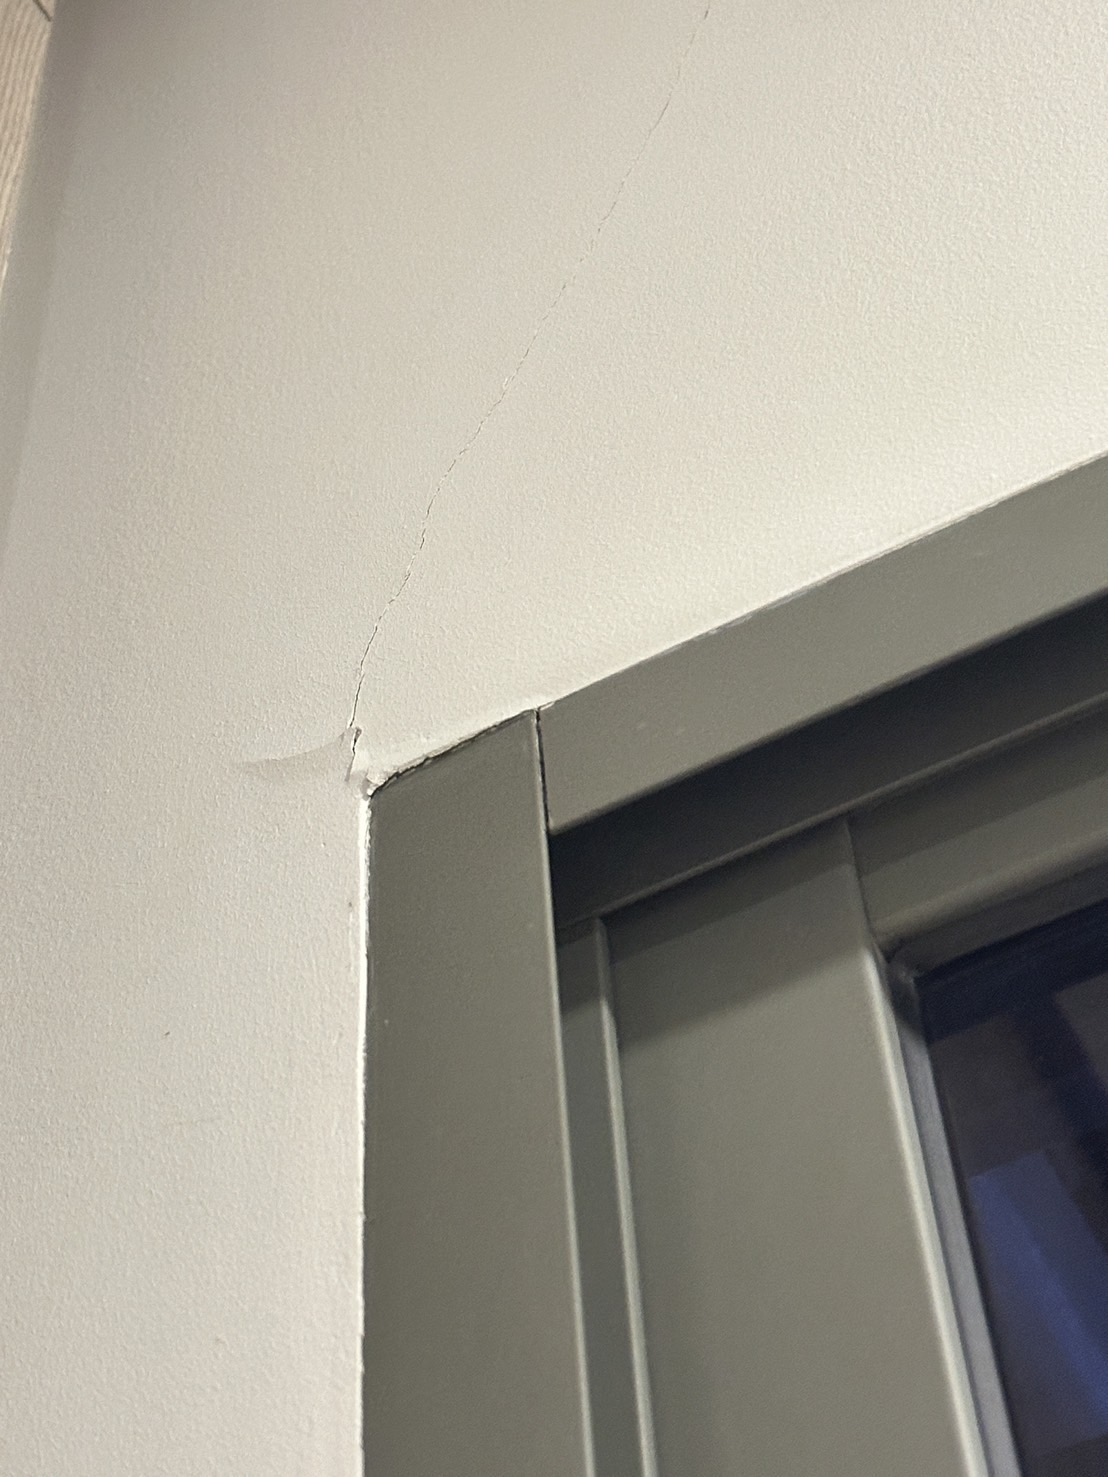Low: (327, 1, 902, 783)
